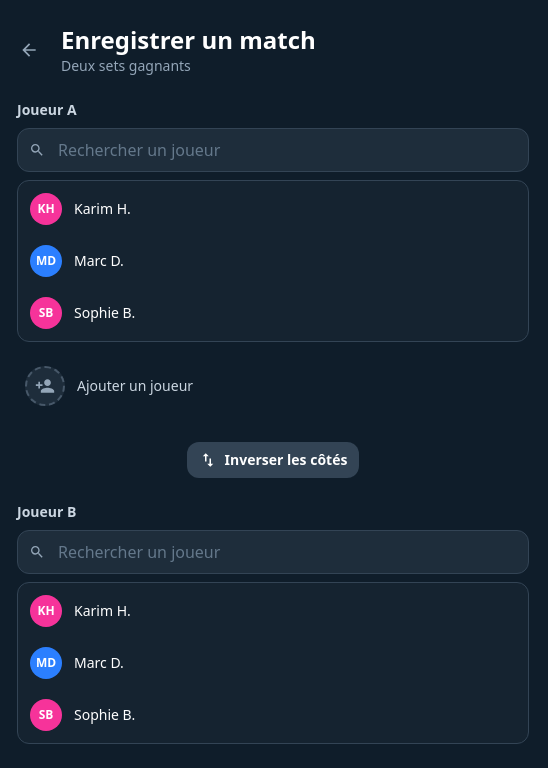
Scenario: Ping-pong match entry › the winner › is shown by name, not as a letter
Click the 1st option "MD Marc D.": (46, 261) [22,237,524,285]
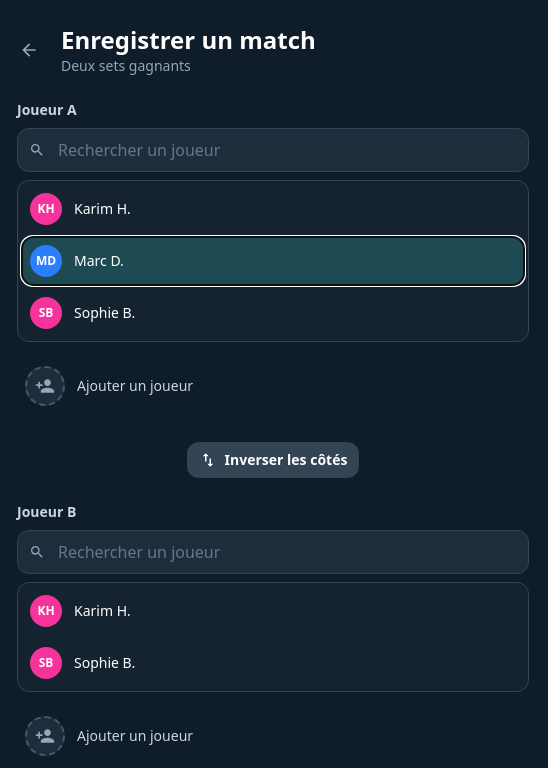
Click the 2nd option "SB Sophie B.": (46, 663) [22,639,524,687]
(page scrolled)
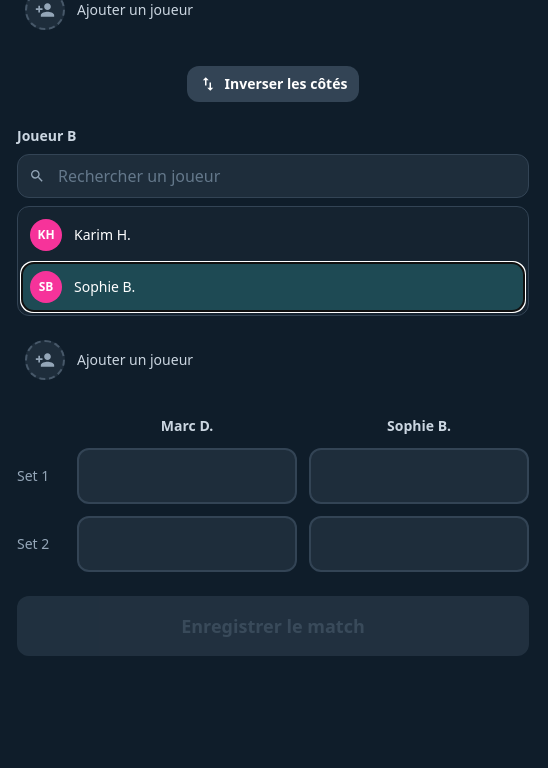
In the field named "Set 1, joueur A": (187, 476) [77,448,297,504], type "11"
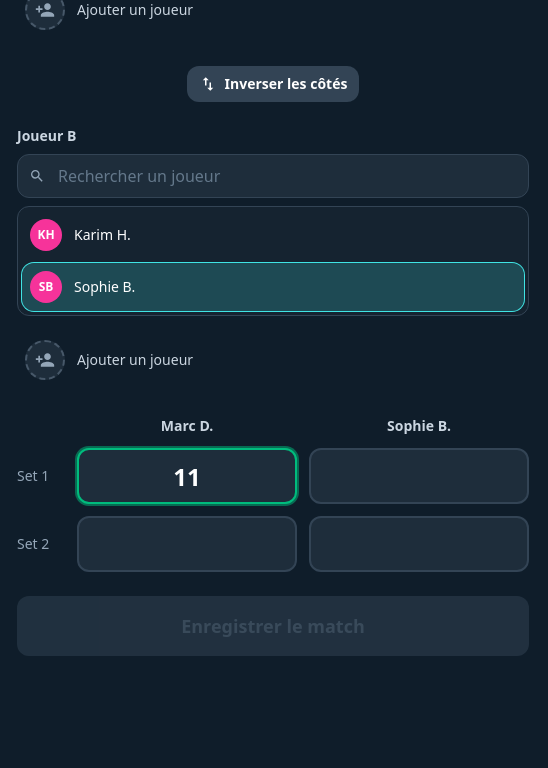
In the field named "Set 1, joueur B": (419, 476) [309,448,529,504], type "5"
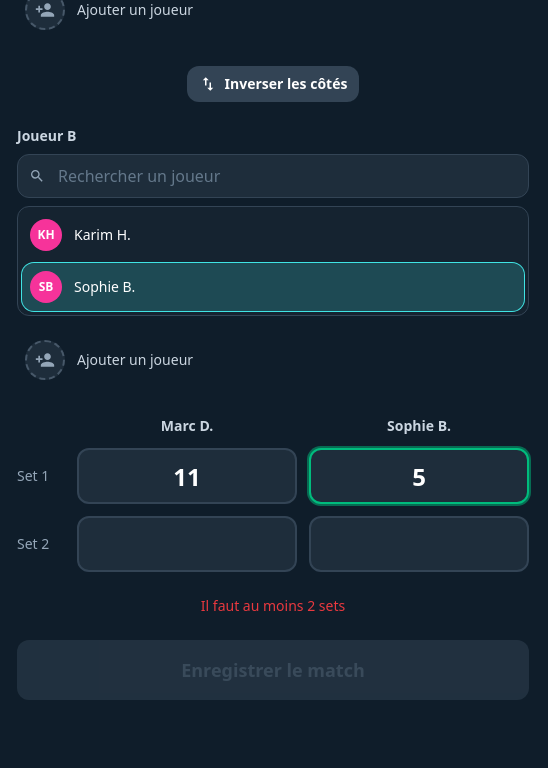
In the field named "Set 2, joueur A": (187, 544) [77,516,297,572], type "11"
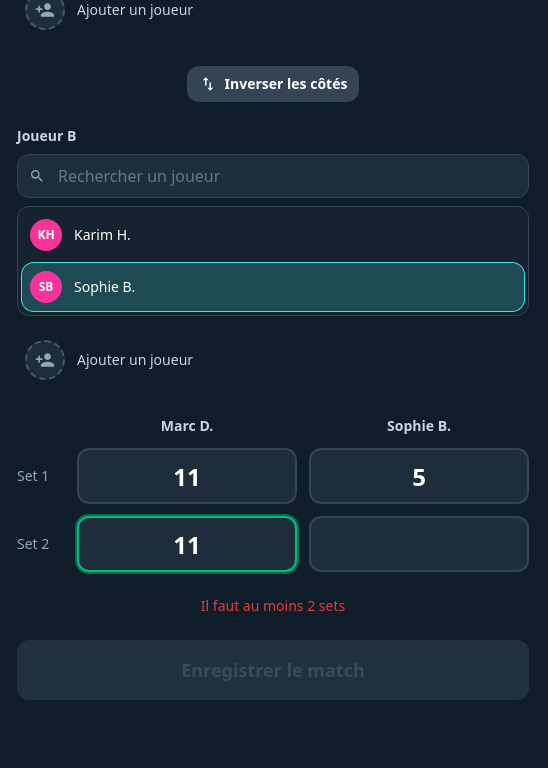
In the field named "Set 2, joueur B": (419, 544) [309,516,529,572], type "8"
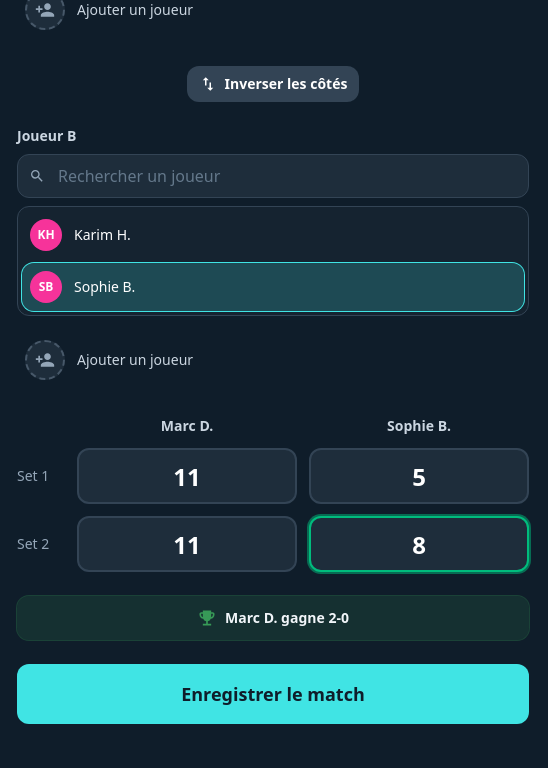
Expected: the element with test id "match-winner" shows "Marc", [225,608,278,627]
